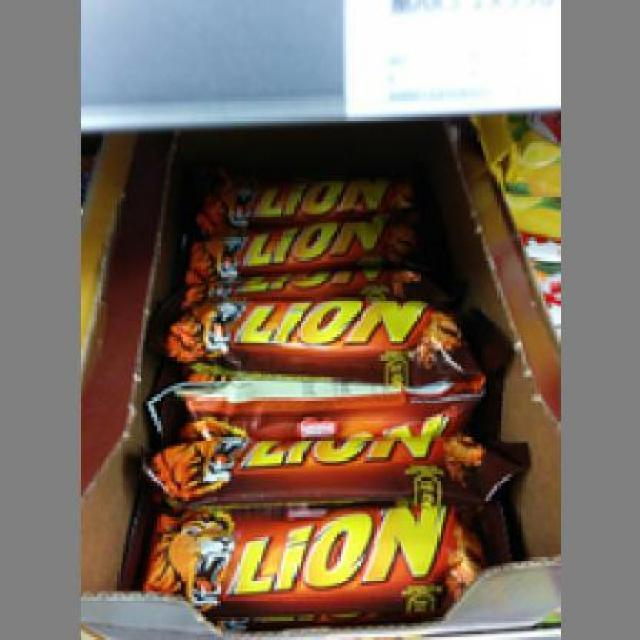Chocolate: (111, 497, 520, 597), (117, 431, 514, 504), (142, 292, 478, 372), (169, 226, 420, 272)
